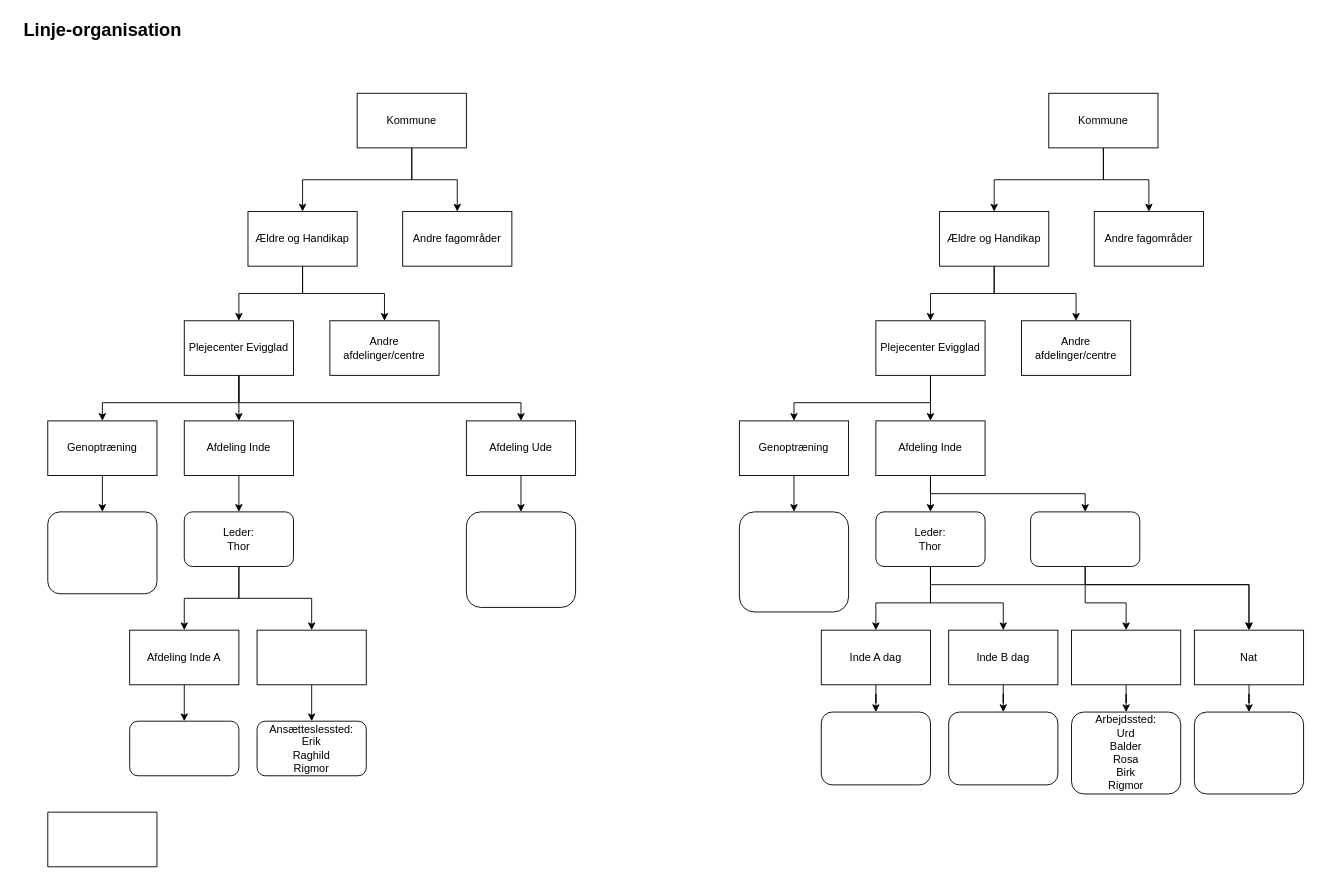
This 1320x883 diagram has some shape labels left out. The shapes that lost their labels are listed below. From the top down, each one's centre as x and y in pixels, then its label:
the point at 102,552: Leder: Helga Ansættelsessted: Rune Freja
the point at 1085,538: Leder: Urd
the point at 520,559: Leder: Urd Ansættelsested: Balder Rosa Birk
the point at 793,561: Leder: Helga Arbejdssted: Rune Rosa Freja Bent
the point at 311,657: Afdeling Inde B
the point at 1126,657: Ude dag
the point at 184,748: Ansættelsessted: Svend Bent
the point at 875,748: Arbejdssted: Svend Bent Rigmor Birk
the point at 1003,748: Arbejdssted: Erik Raghild Rigmor Birk
the point at 1248,752: Arbejdssted: Svend Erik Balder
